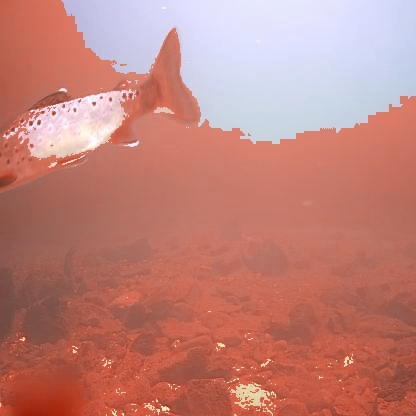salmon: (0, 22, 204, 197)
